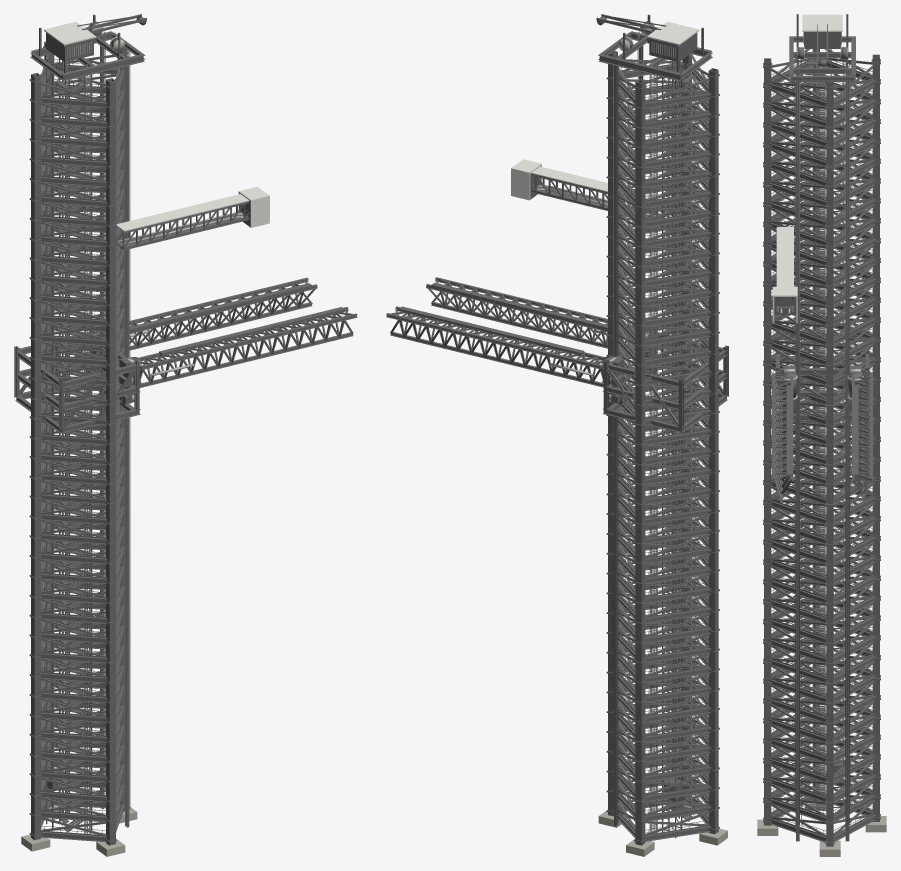
The model's file is tower_a.glb.
The picture shows the model from 3 angles, left to right: view 1: azimuth 30°, elevation 25°; view 2: azimuth 150°, elevation 25°; view 3: azimuth 270°, elevation 25°; orthographic projection.
Parts seen in each view (by area): view 1: TowerStructure, ArmTruss_R, ArmTruss_L, CarriageFrame, QDTruss; view 2: TowerStructure, ArmTruss_L, ArmTruss_R, CarriageFrame, QDTruss; view 3: TowerStructure, ArmTruss_R, ArmTruss_L, QDTruss, CarriageFrame.
Part boxes in pixels (x1,y1,x2,y2): TowerStructure: (21,14,146,856); ArmTruss_R: (133,307,357,387); ArmTruss_L: (95,277,317,357); CarriageFrame: (14,331,140,433); QDTruss: (116,186,269,250); TowerStructure: (596,14,727,856); ArmTruss_L: (386,306,610,387); ArmTruss_R: (426,277,646,348); CarriageFrame: (602,331,728,432); QDTruss: (511,159,664,218); TowerStructure: (757,14,886,856); ArmTruss_R: (772,371,797,502); ArmTruss_L: (847,371,872,502); QDTruss: (772,227,797,323); CarriageFrame: (775,330,869,421).
Size of the model in its own units: 57.6 by 143 by 20.85.
4 materials, 1 textured.
